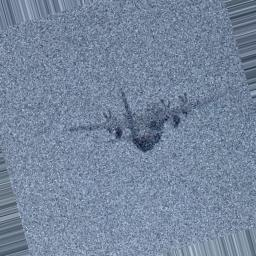Airplane: (67, 88, 227, 152)
